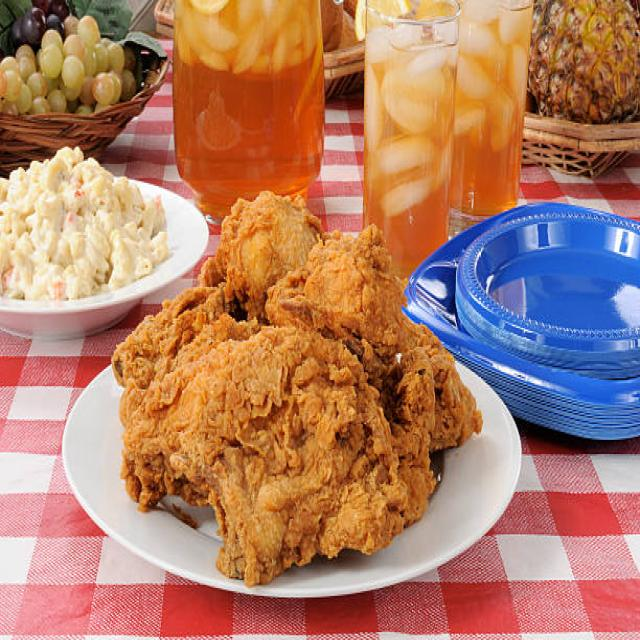Frango: (110, 183, 485, 578)
